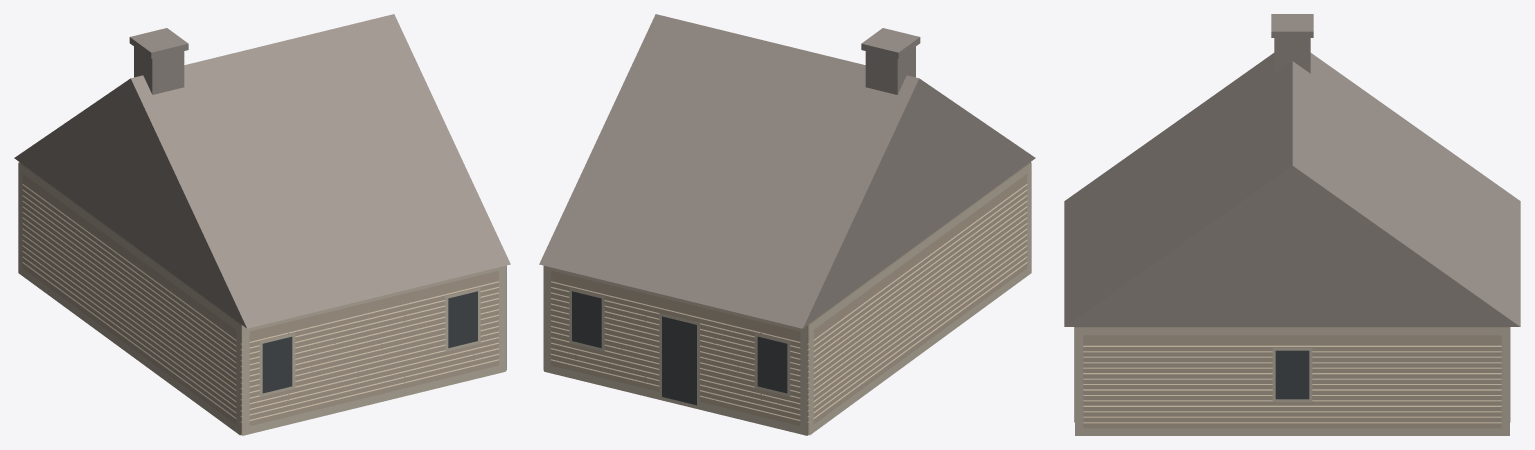
The model's file is recon_1835_south_d5_034__inferred_1835.glb.
3 renders of one model, left to right at view 1: azimuth 30°, elevation 25°; view 2: azimuth 150°, elevation 25°; view 3: azimuth 270°, elevation 25°, orthographic. The views are drawn at different scales.
Visible parts, largest first — view 1: recon_1835_south_d5_034__inferred_1835; view 2: recon_1835_south_d5_034__inferred_1835; view 3: recon_1835_south_d5_034__inferred_1835.
Part boxes in pixels (x1=…): recon_1835_south_d5_034__inferred_1835: x1=14, y1=14, x2=510, y2=435; recon_1835_south_d5_034__inferred_1835: x1=539, y1=14, x2=1035, y2=435; recon_1835_south_d5_034__inferred_1835: x1=1064, y1=14, x2=1520, y2=435.
Bounding box in the file's own units: 7.01 × 7.71 × 10.62.
